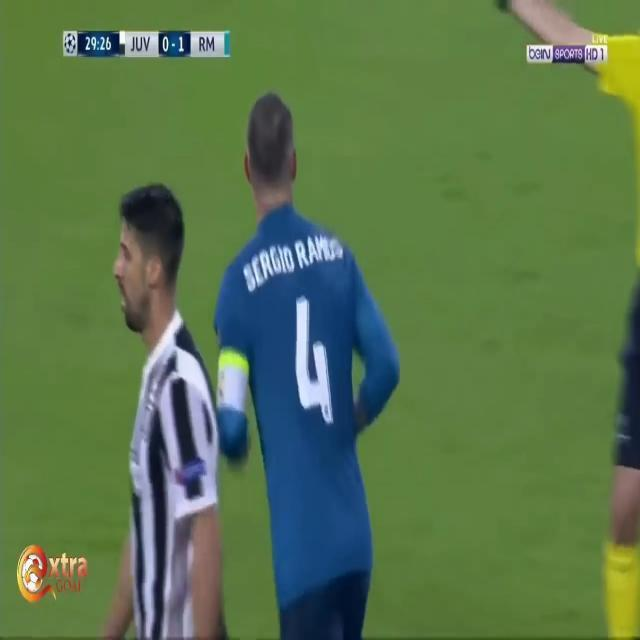player: (182, 89, 418, 640), (93, 166, 252, 632)
